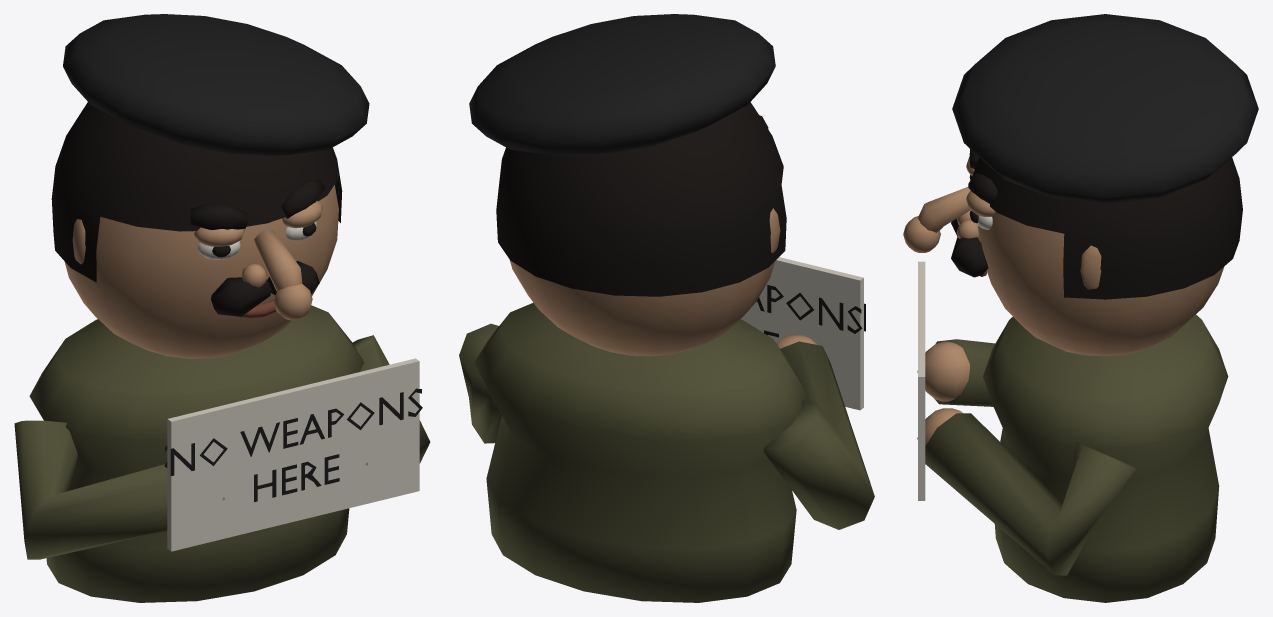
3 views of the same model, side by side, from view 1: azimuth 30°, elevation 25°; view 2: azimuth 150°, elevation 25°; view 3: azimuth 270°, elevation 25° (orthographic). The views are drawn at different scales.
Visible parts, largest first — view 1: fig_body, fig_head; view 2: fig_body, fig_head; view 3: fig_head, fig_body.
Boxes of the visible parts, box(x1,y1,x2,y2) form: fig_body: box(14, 305, 430, 602); fig_head: box(51, 14, 369, 358); fig_body: box(459, 257, 874, 602); fig_head: box(469, 14, 786, 356); fig_head: box(903, 14, 1258, 356); fig_body: box(917, 261, 1228, 602).
Bounding box in the file's own units: 0.8507 × 1.02 × 0.6764.
